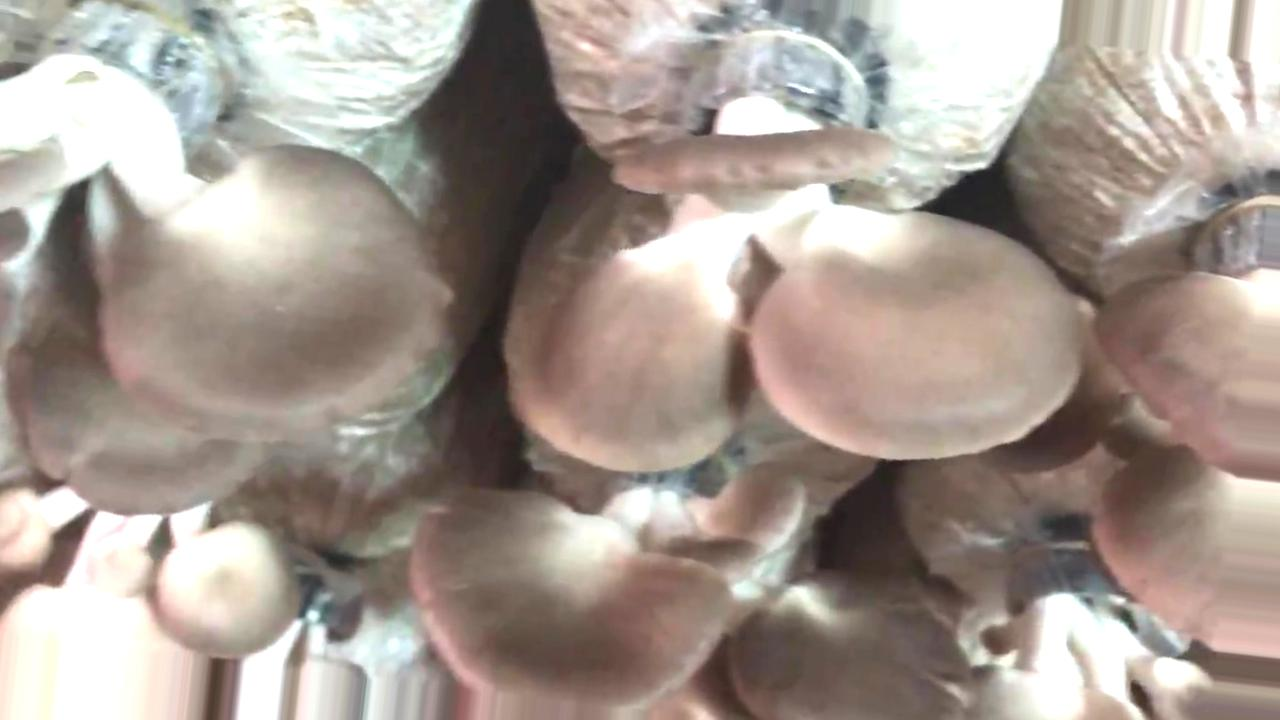nam: (520, 30, 1082, 474), (1, 2, 439, 512), (409, 464, 971, 720), (1096, 177, 1280, 479)
